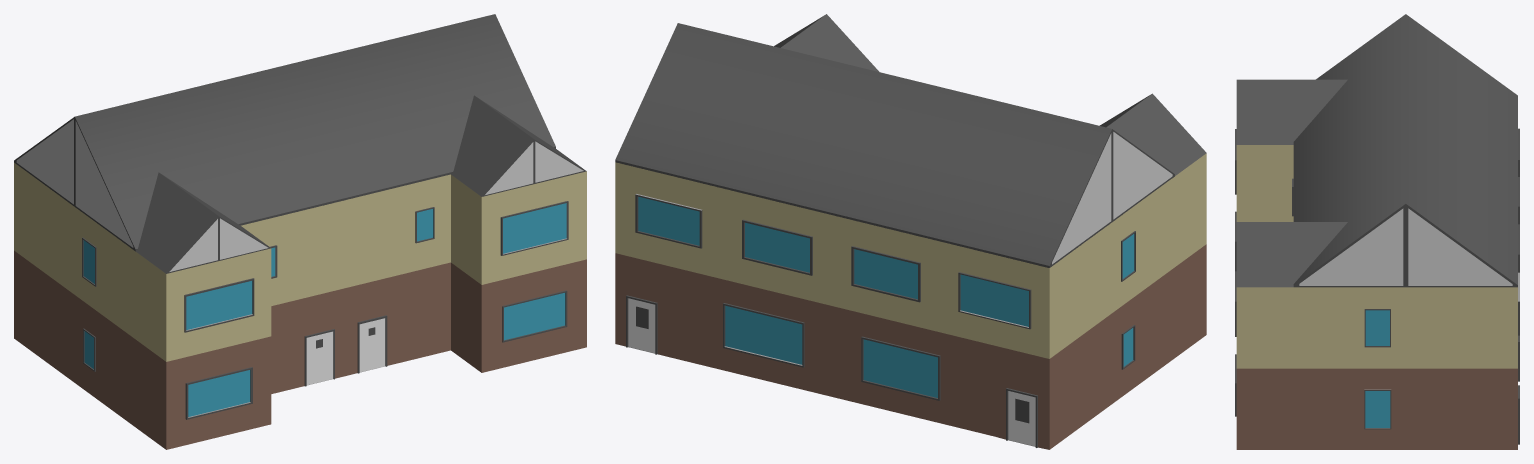
Rendered from MidHouse3.1.fbx.
3 renders of one model, left to right at view 1: azimuth 30°, elevation 25°; view 2: azimuth 150°, elevation 25°; view 3: azimuth 270°, elevation 25°, orthographic. The views are drawn at different scales.
Parts seen in each view (by area): view 1: pCube3; view 2: pCube3; view 3: pCube3.
Part boxes in pixels (x1,y1,x2,y2): pCube3: (14,14,586,449); pCube3: (615,14,1206,449); pCube3: (1235,14,1519,449).
Size of the model in its own units: 20.1 by 12.12 by 12.69.
